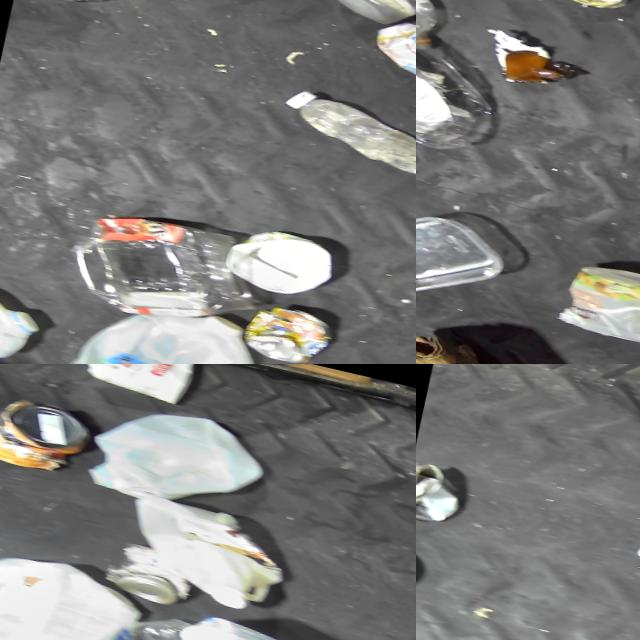can: (0, 385, 100, 480), (100, 534, 198, 608), (236, 297, 332, 364), (416, 459, 468, 532), (367, 14, 416, 88), (560, 0, 633, 15)
milk_jug: (79, 391, 278, 526), (115, 488, 299, 618), (55, 283, 268, 364), (0, 536, 150, 640), (0, 277, 45, 364)
plastic_bottle: (273, 85, 416, 187), (47, 591, 195, 640)
